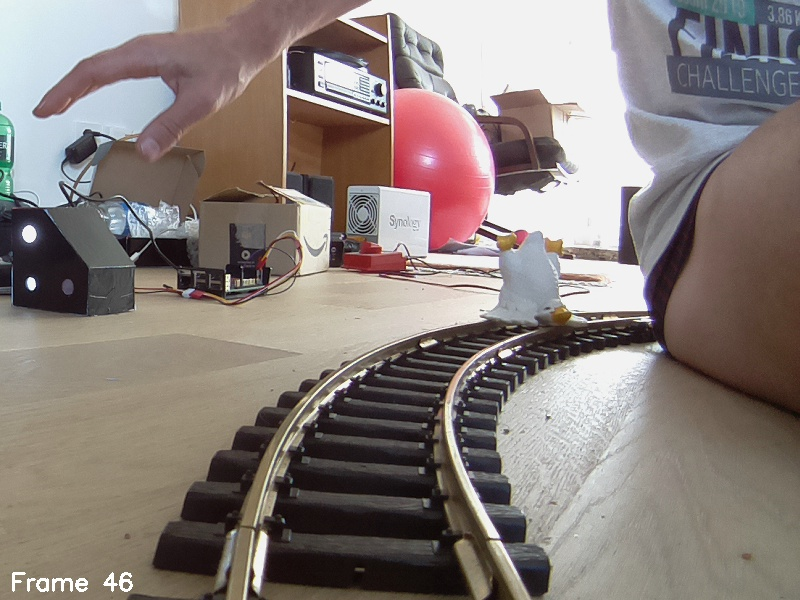Ente: (477, 229, 594, 338)
Fahrt: (10, 205, 134, 318)
